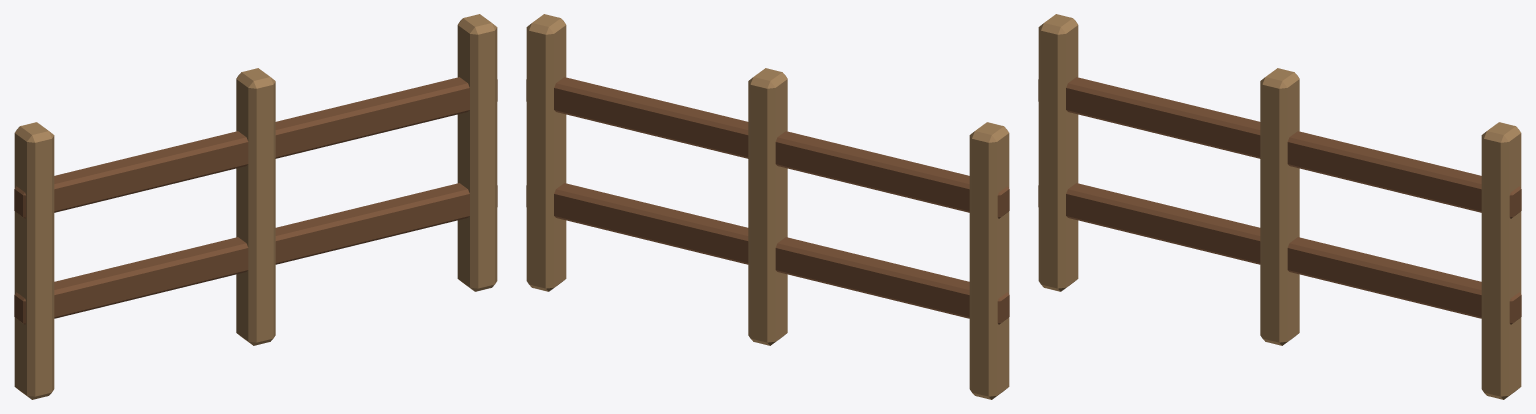
File: Cerca_Madera.fbx
The picture shows the model from 3 angles, left to right: view 1: azimuth 30°, elevation 25°; view 2: azimuth 150°, elevation 25°; view 3: azimuth 330°, elevation 25°; orthographic projection.
Visible parts, largest first — view 1: Cerca_Madera; view 2: Cerca_Madera; view 3: Cerca_Madera.
Boxes of the visible parts, x1,y1,x2,y2 form: Cerca_Madera: (14,14,497,399); Cerca_Madera: (526,14,1009,399); Cerca_Madera: (1038,14,1521,399).
Bounding box in the file's own units: 2.25 × 1.2 × 0.15.
